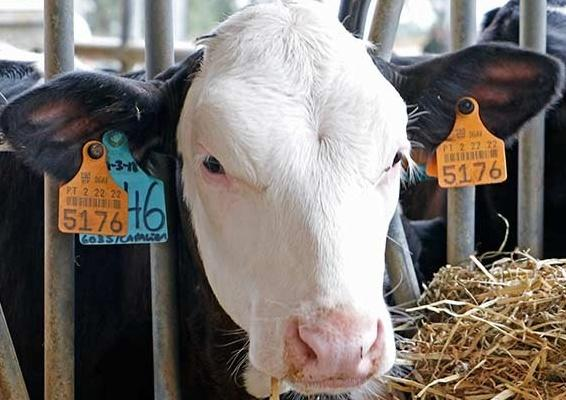muzzles: (261, 306, 400, 395)
